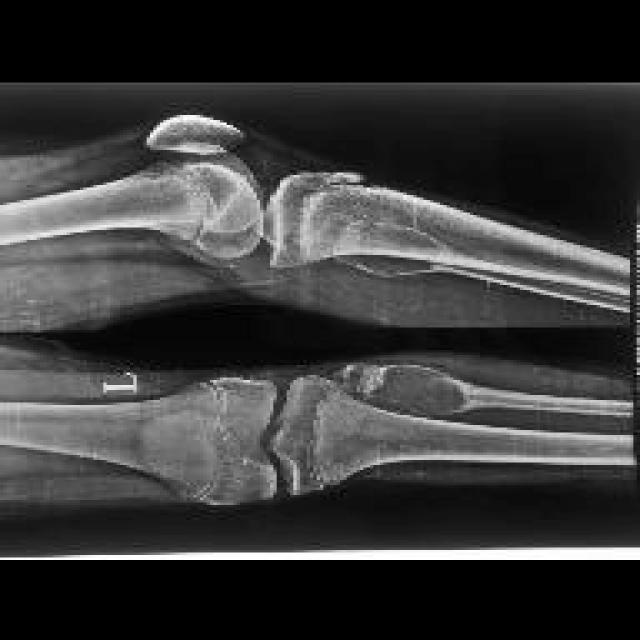bone-cancer: (328, 225, 453, 277), (365, 365, 465, 414)
